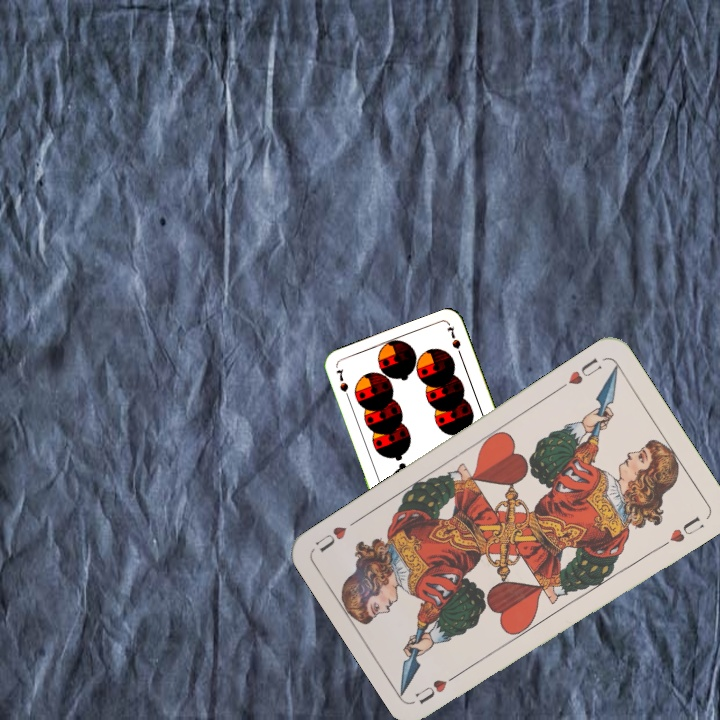HU: (411, 667, 465, 707), (555, 354, 605, 393)
S7: (332, 365, 352, 403)
